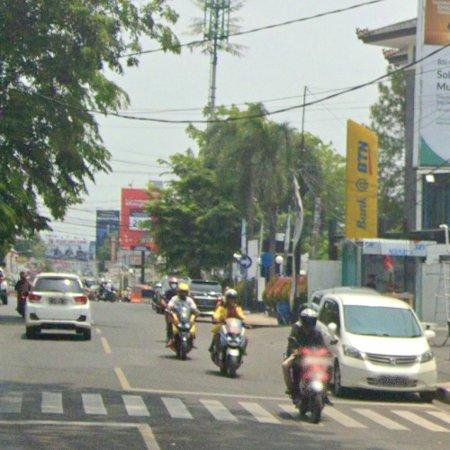crosswalks: (0, 389, 450, 435)
